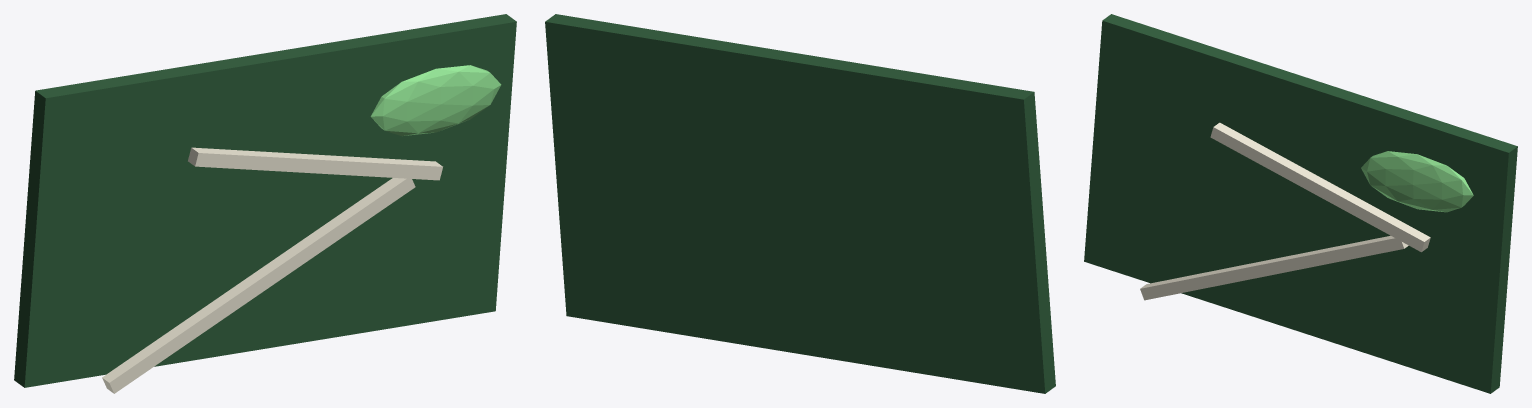
The model's file is 02_weathering_wear_overlay_2.glb.
3 views of the same model, side by side, from view 1: azimuth 30°, elevation 25°; view 2: azimuth 150°, elevation 25°; view 3: azimuth 330°, elevation 25° (orthographic). The views are drawn at different scales.
Visible parts, largest first — view 1: wear_plate, scratch_a, rust_or_moss_spot, scratch_b; view 2: wear_plate; view 3: wear_plate, rust_or_moss_spot, scratch_b, scratch_a.
Part boxes in pixels (x1,y1,x2,y2): wear_plate: (14, 14, 516, 387); scratch_a: (102, 178, 415, 393); rust_or_moss_spot: (370, 65, 501, 136); scratch_b: (188, 147, 442, 180); wear_plate: (545, 14, 1055, 393); wear_plate: (1084, 14, 1517, 393); rust_or_moss_spot: (1361, 151, 1473, 212); scratch_b: (1210, 122, 1430, 252); scratch_a: (1140, 235, 1408, 300).
Size of the model in its own units: 1.35 by 0.8485 by 0.134.
